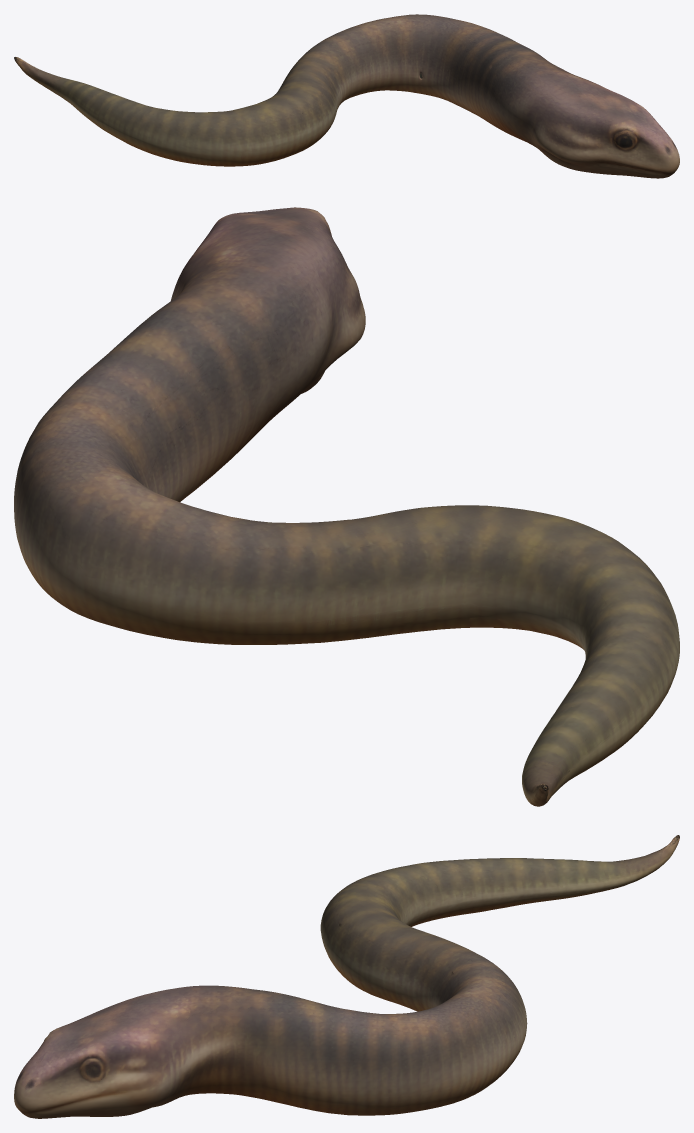
3 views of the same model, one above another, from view 1: azimuth 30°, elevation 25°; view 2: azimuth 150°, elevation 25°; view 3: azimuth 270°, elevation 25° (orthographic). The views are drawn at different scales.
Parts seen in each view (by area): view 1: world; view 2: world; view 3: world.
Boxes of the visible parts, bbox=[...] form: world: bbox=[14, 14, 679, 178]; world: bbox=[14, 207, 679, 806]; world: bbox=[14, 835, 679, 1118].
Size of the model in its own units: 0.6294 by 0.1355 by 0.7.
1 material, 1 textured.
